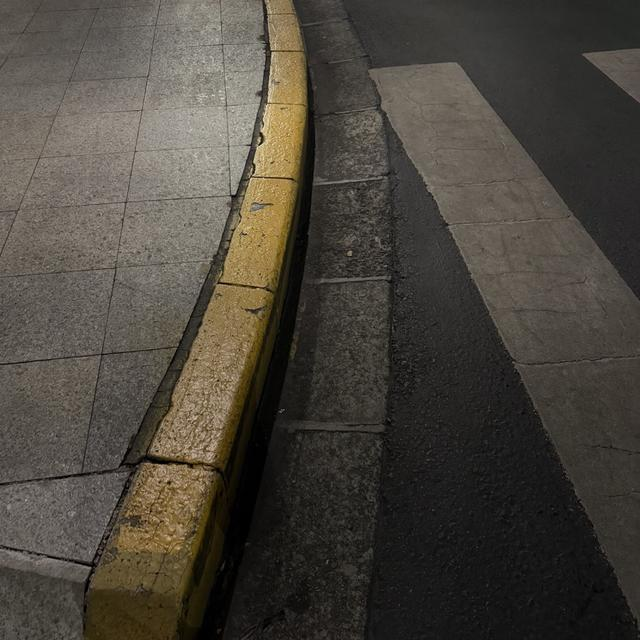curb: (85, 0, 307, 639)
